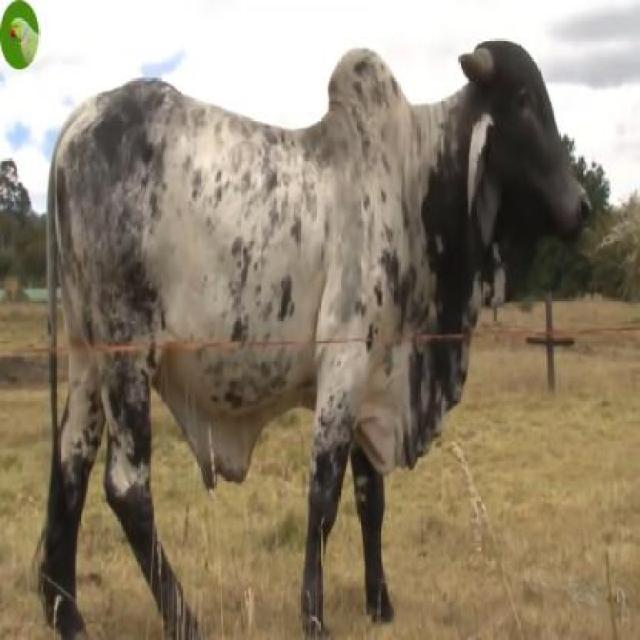Cow: (41, 36, 594, 638)
